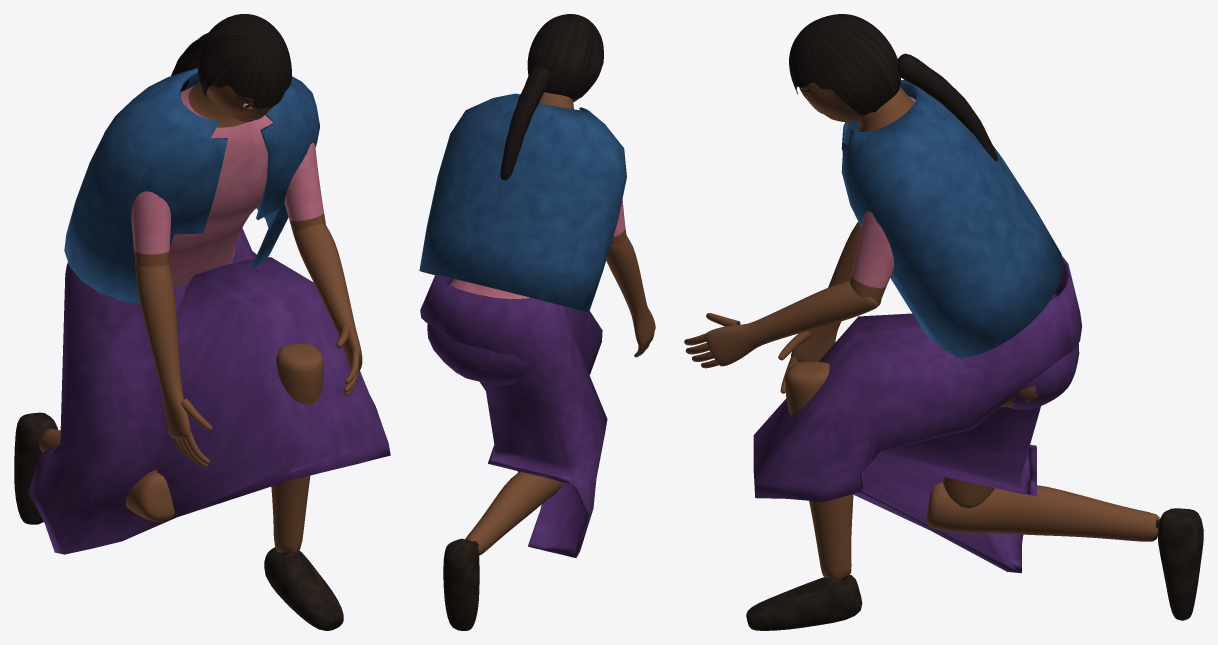
The model's file is persona_mujer_agachada.obj.
3 renders of one model, left to right at view 1: azimuth 30°, elevation 25°; view 2: azimuth 150°, elevation 25°; view 3: azimuth 270°, elevation 25°, orthographic. The views are drawn at different scales.
Visible parts, largest first — view 1: persona_mujer_agachada; view 2: persona_mujer_agachada; view 3: persona_mujer_agachada.
Boxes of the visible parts, x1=… form: persona_mujer_agachada: x1=14, y1=14, x2=390, y2=630; persona_mujer_agachada: x1=419, y1=14, x2=655, y2=630; persona_mujer_agachada: x1=684, y1=14, x2=1203, y2=630.
Size of the model in its own units: 0.5356 by 1.29 by 0.9785.
12 materials, 12 textured.
